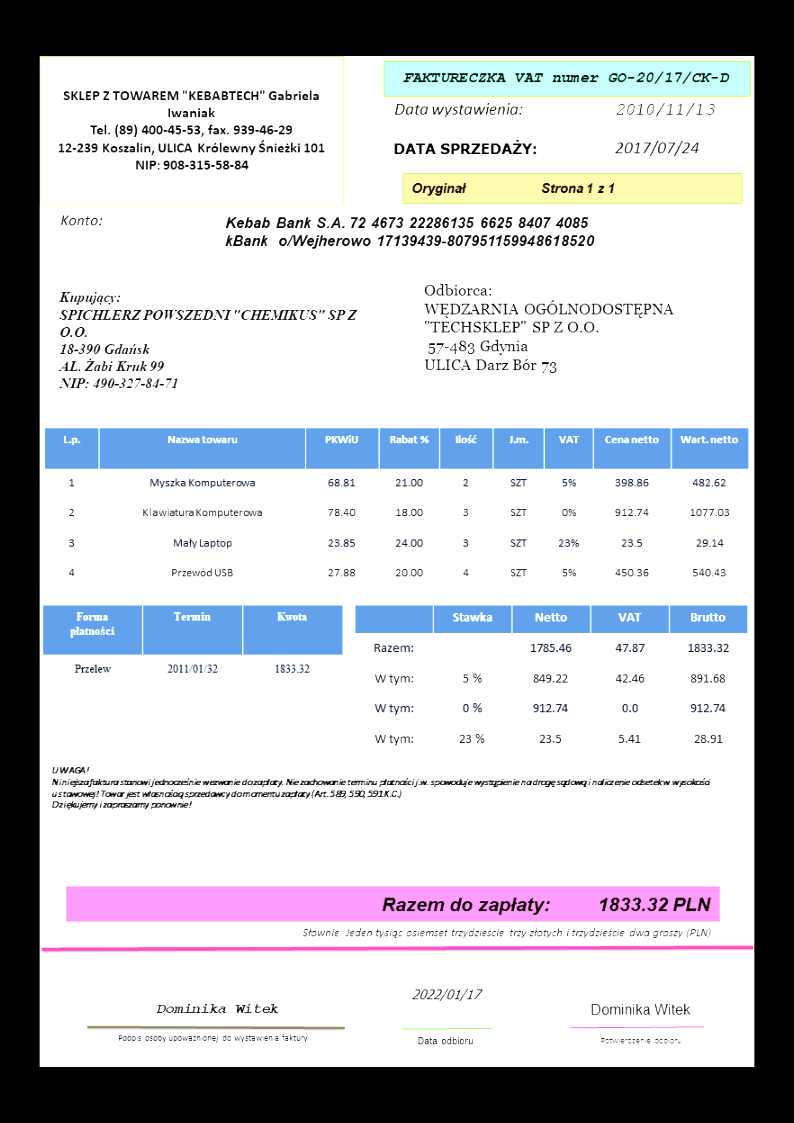Table: (42, 423, 751, 593), (352, 603, 749, 757), (42, 603, 342, 692)
TextBox: (48, 762, 711, 813), (57, 288, 361, 395), (421, 278, 678, 380), (56, 83, 330, 176), (222, 211, 598, 253), (377, 892, 715, 917), (300, 924, 716, 940), (399, 68, 736, 85), (408, 179, 618, 199), (391, 137, 539, 158), (392, 98, 524, 119), (114, 1031, 310, 1045), (152, 1000, 283, 1017), (588, 998, 695, 1018), (615, 98, 716, 117), (612, 137, 699, 159), (410, 982, 489, 1005), (599, 1033, 683, 1050), (56, 209, 107, 232), (412, 1034, 475, 1049)
